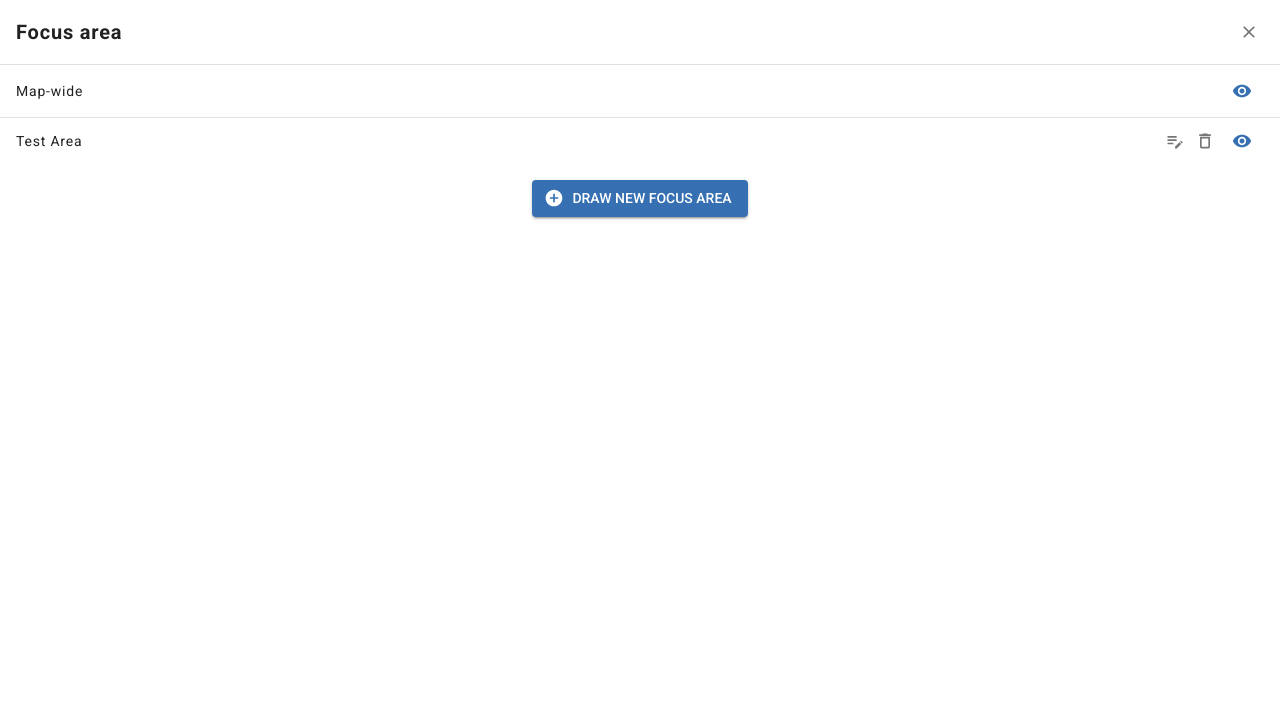
Test: FocusAreaView › Delete Confirmation Dialog › opens dialog when delete button is clicked
The width and height of the screenshot is (1280, 720).
Expected: the text "Test Area" is shown, [16, 133, 82, 149]
Click the button named "Delete focus area".
click(1205, 141)  # box [1190, 126, 1220, 156]
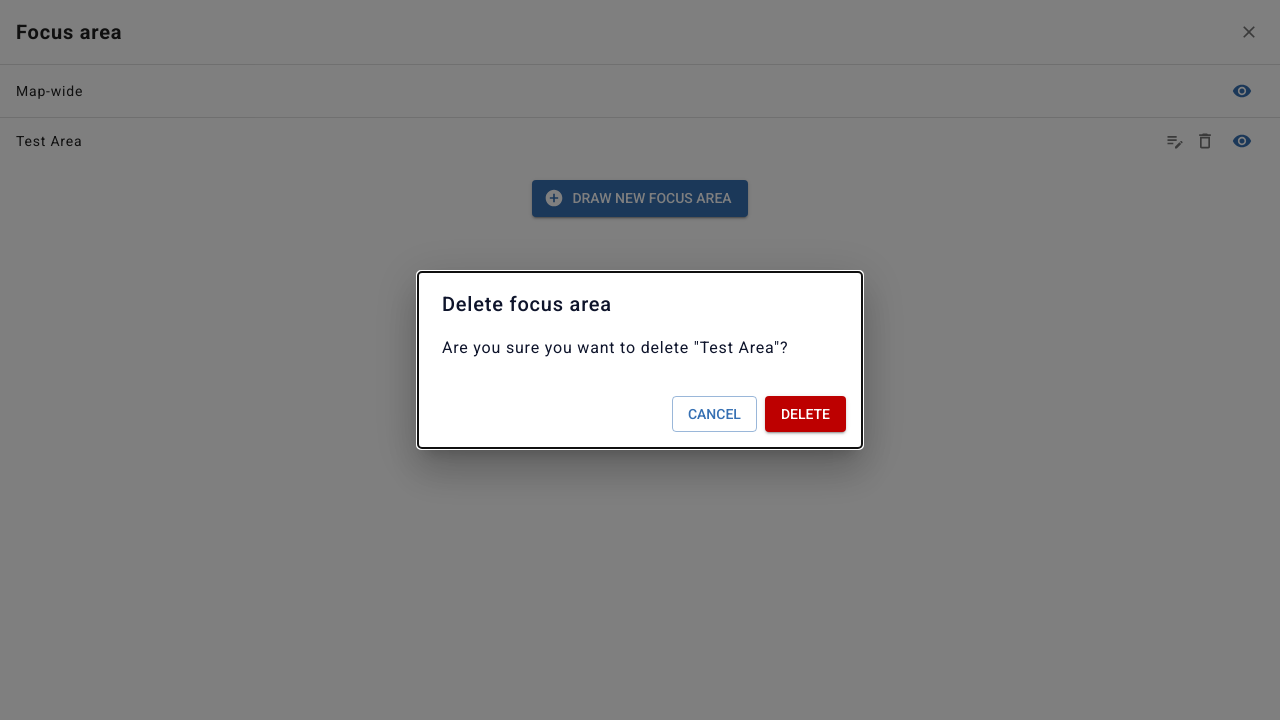
Result: the heading "Delete focus area" is shown at [442, 292, 612, 316]
Result: the text "Are you sure you want to delete \"Test Area\"?" is shown at [442, 336, 838, 360]
